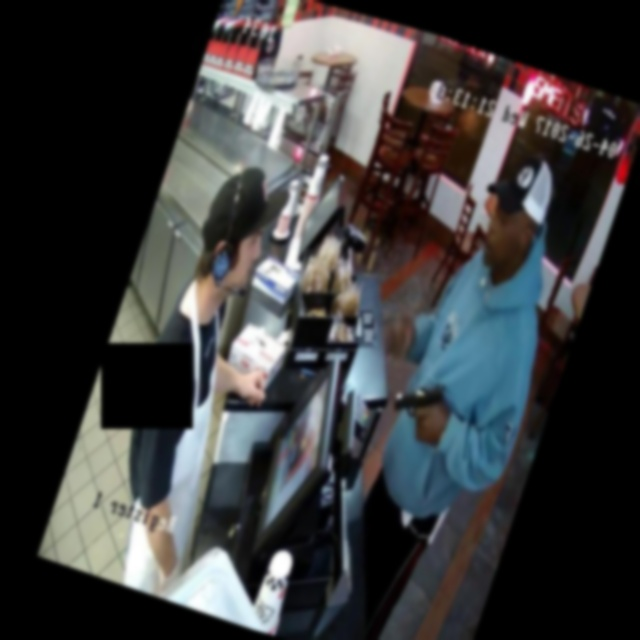gun: (379, 356, 470, 444)
